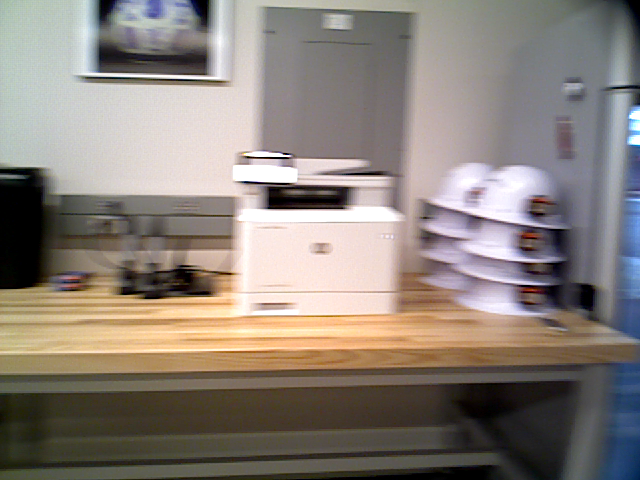painting2: (86, 1, 229, 83)
